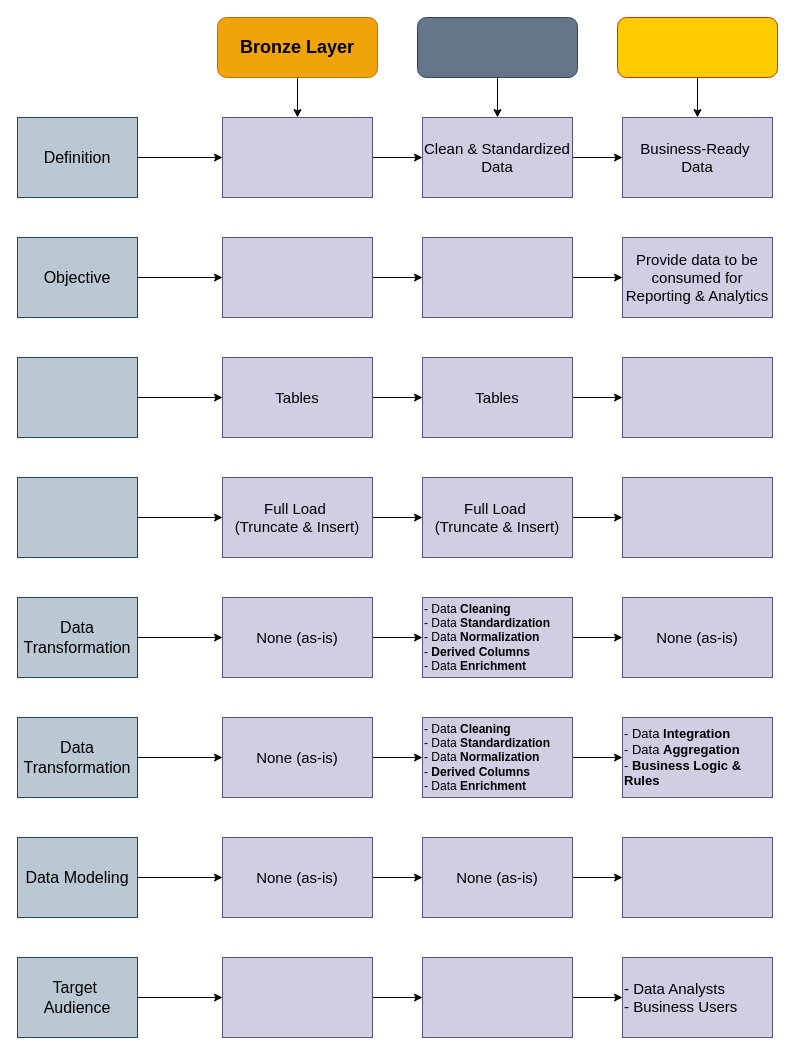
The diagram is 795 pixels wide and 1055 high, and some of its shapes have lost their labels. Here are the shapes that lost their labels. From the top down, the centre of each, then its label:
At (497,47): "Silver Layer".
At (697,47): "Gold Layer".
At (297,157): "Raw, unprocessed data as-is from sources".
At (297,277): "Traceability & Debugging".
At (497,277): "(Intermediate Layer) Prepare Data for Analysis".
At (77,397): "Object Type".
At (697,397): "Views".
At (77,517): "Load Method".
At (697,517): "None".
At (697,877): "- Start Schema - Aggregated Objects - Flat Tables".
At (297,997): "Data Engineers".
At (497,997): "- Data Analysts - Data Engineers".
